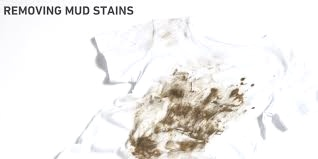earth: (165, 90, 222, 137), (131, 137, 161, 158), (165, 139, 206, 152), (225, 91, 244, 112), (238, 78, 255, 86)
